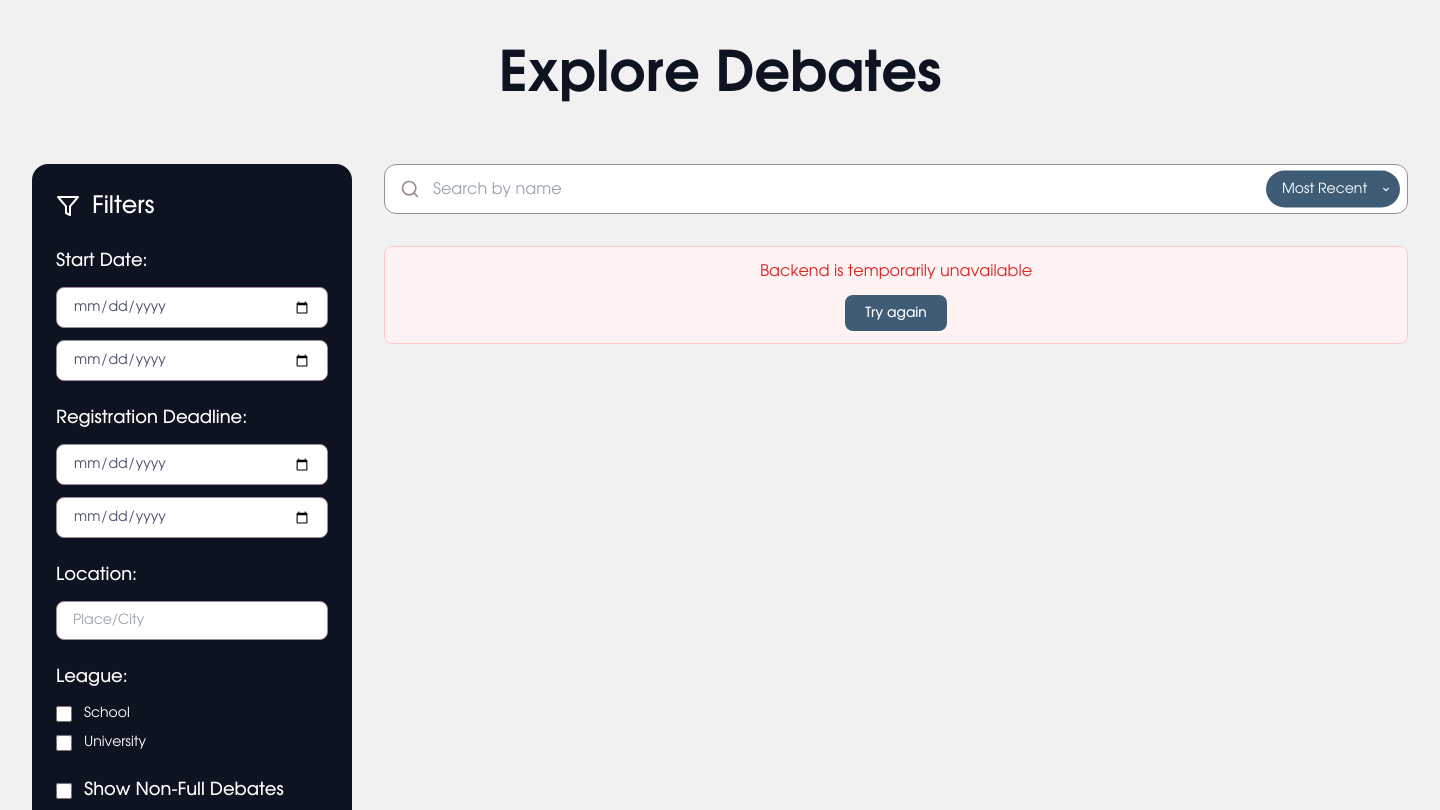
Test: JoinDebatesPage team registration › offers a page-zero retry after the initial tournament load fails
The image size is (1440, 810).
Check: the text "Backend is temporarily unavailable" is shown, box [760,263,1032,279]
Step 1. Click the button "Try again" → click(896, 313), box [845,295,947,331]
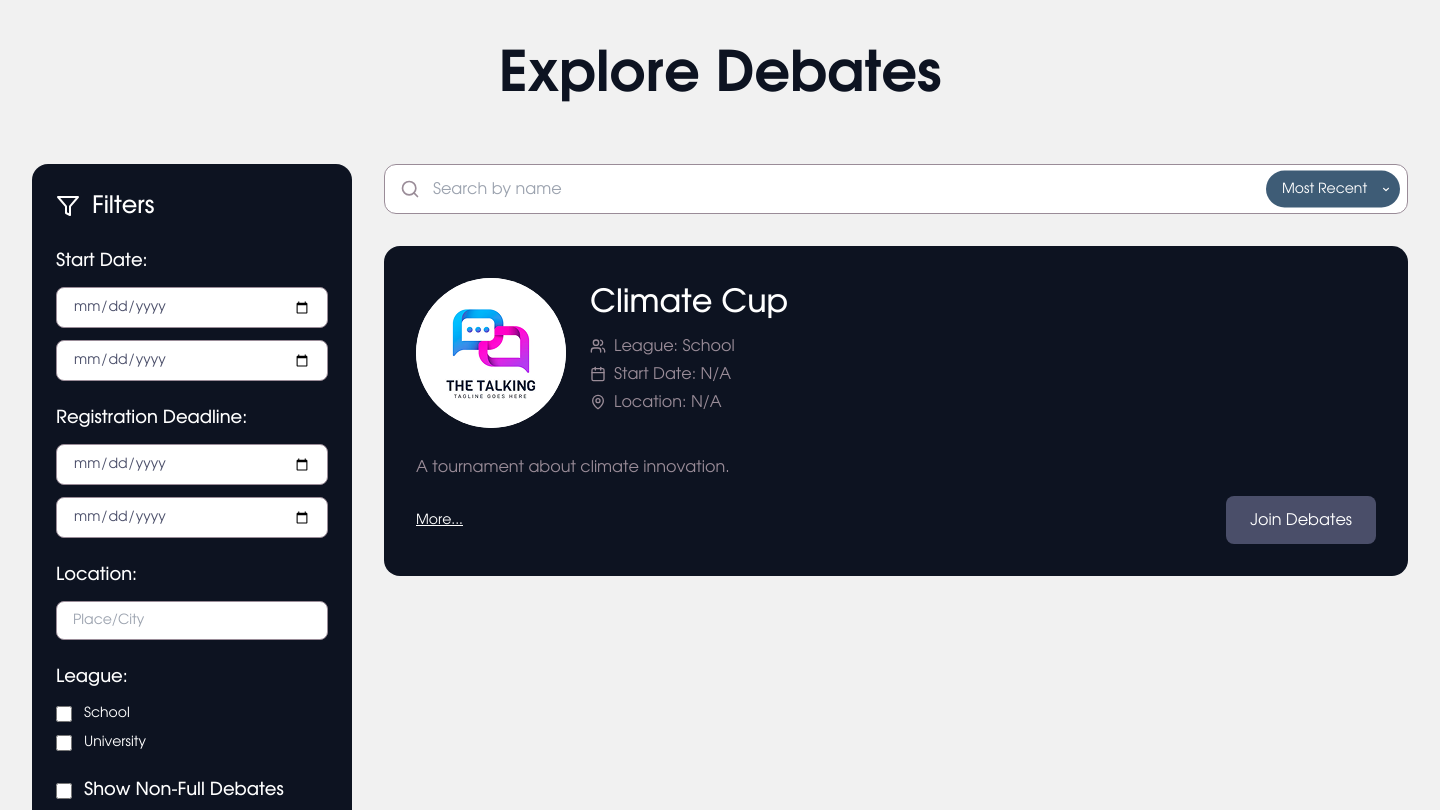
Check: the heading "Climate Cup" is shown, box [590,286,788,318]
